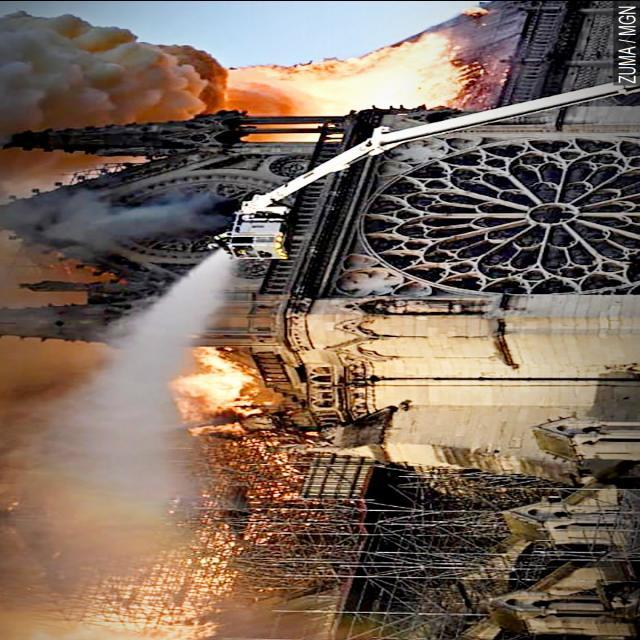Fire: (52, 330, 308, 551), (134, 27, 471, 143)
